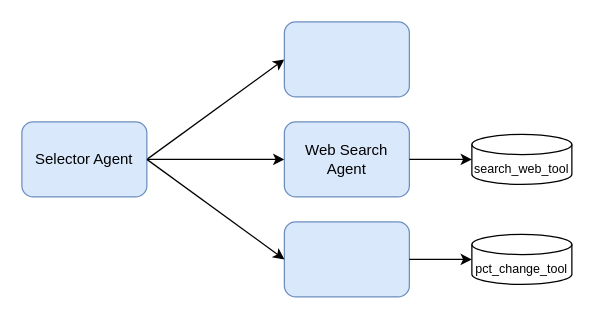
Image size: 594x319. Some labels were removed from this diagram. The shapes that lost their labels are listed below. From the top down, each one's centre as x and y in pixels, then its label:
point (346, 59): Planning Agent
point (346, 259): Data Analyst Agent
